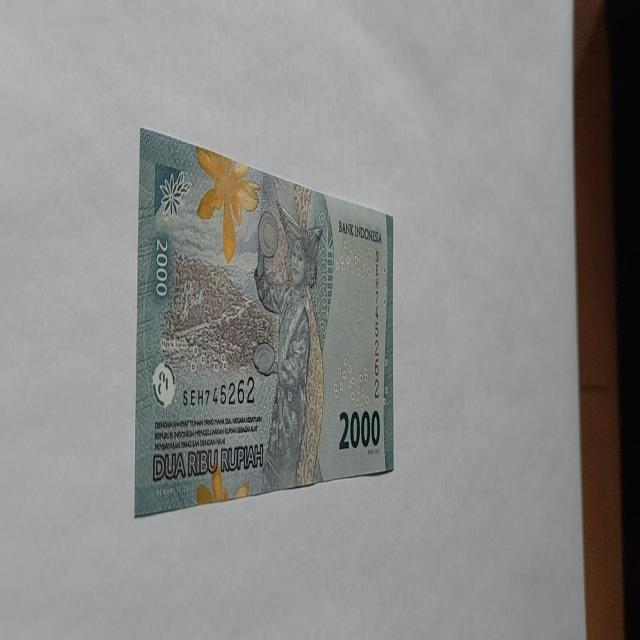dua ribu rupiah: (133, 128, 394, 516), (252, 196, 326, 494), (194, 145, 262, 263)
